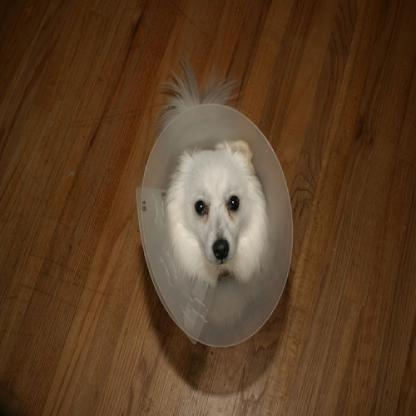dog: (152, 64, 270, 285)
